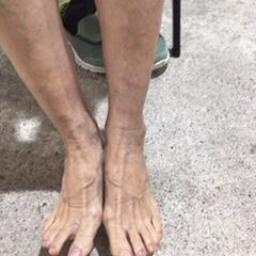Dorsal View -Both Feet-: (31, 108, 170, 255)
